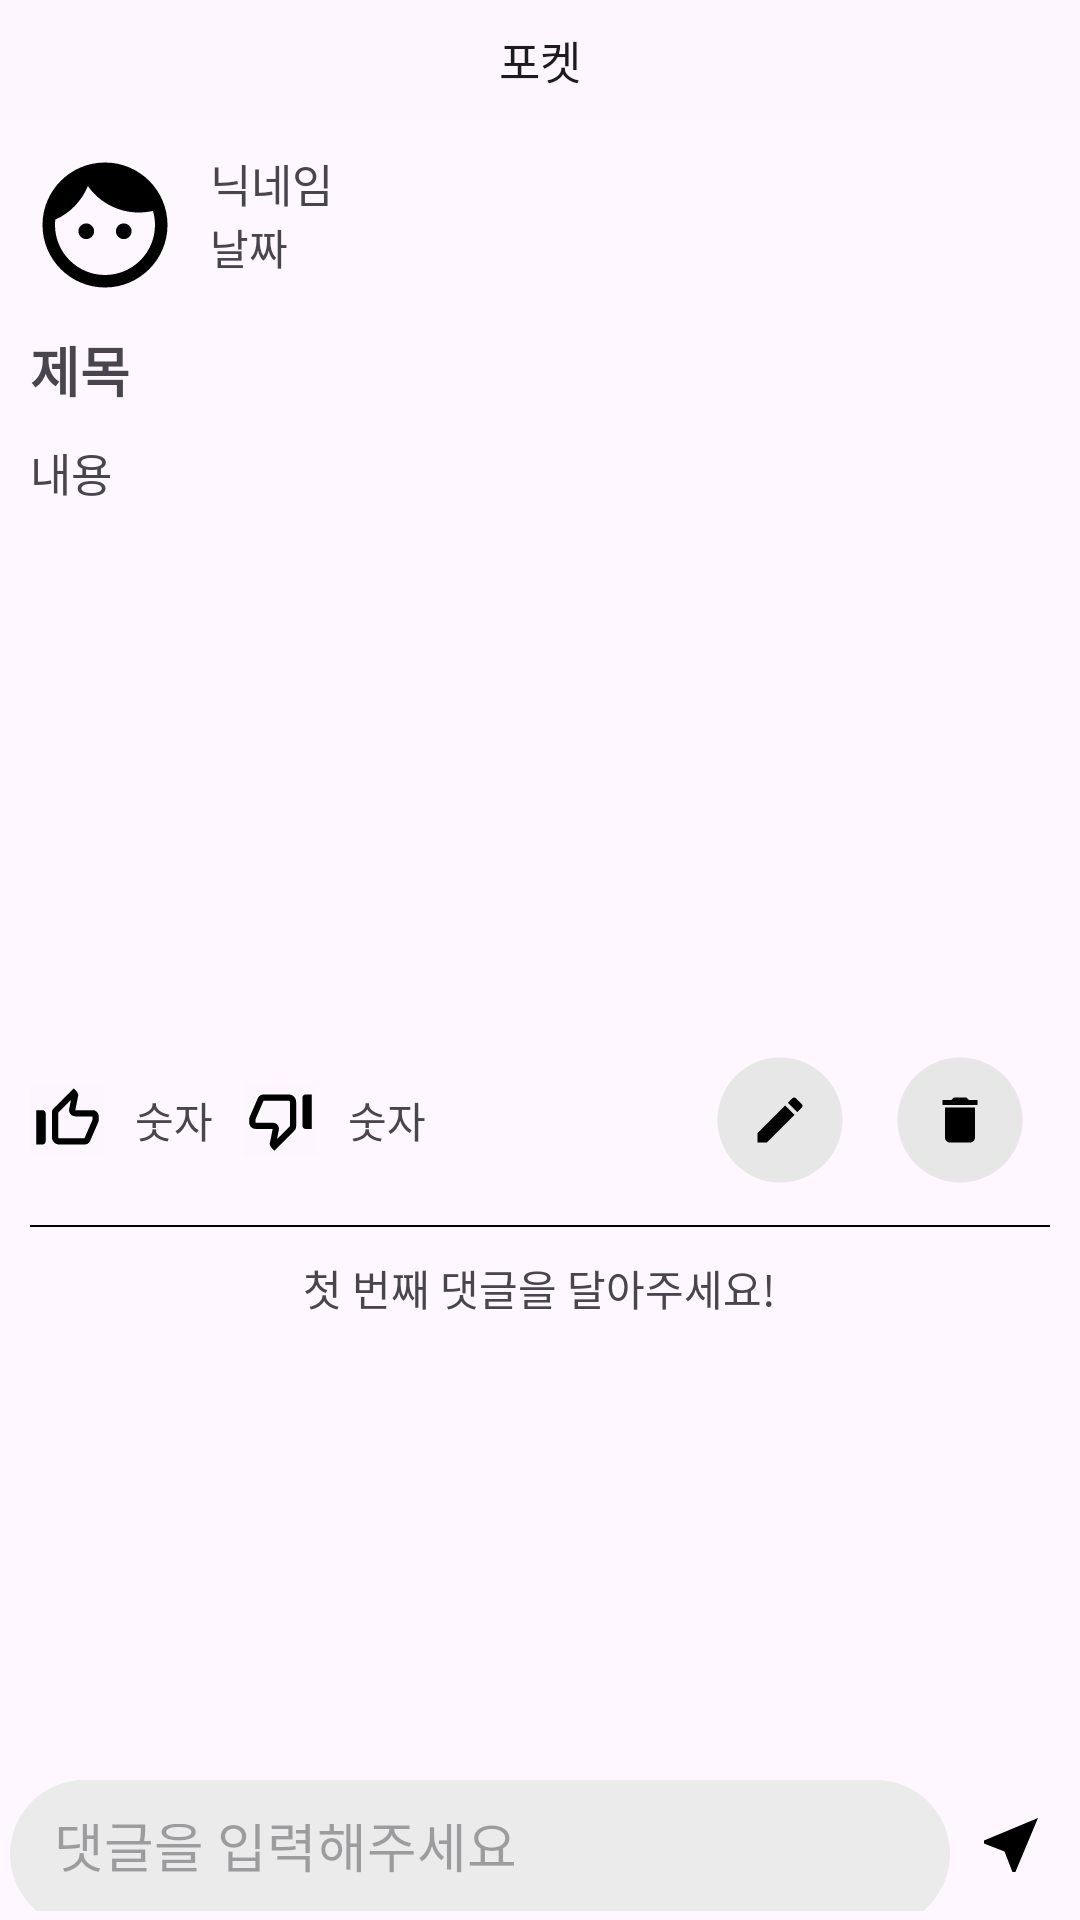

Point at icon controls on the screen. Image size 1080 × 1920, points as point (x, y).
delete: point (960, 1120)
face: point (105, 225)
mode edit: point (780, 1120)
near me: point (1011, 1845)
thumb down border: point (280, 1122)
thumb up border: point (67, 1116)
